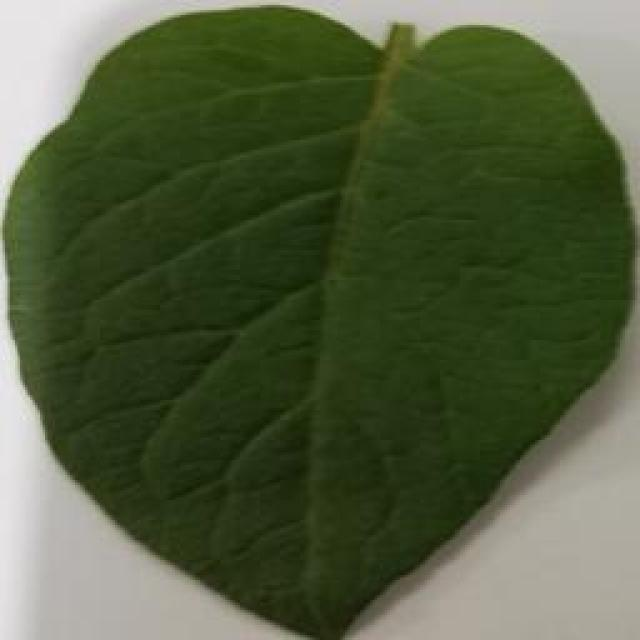Potato_Healthy: (6, 7, 628, 636)
